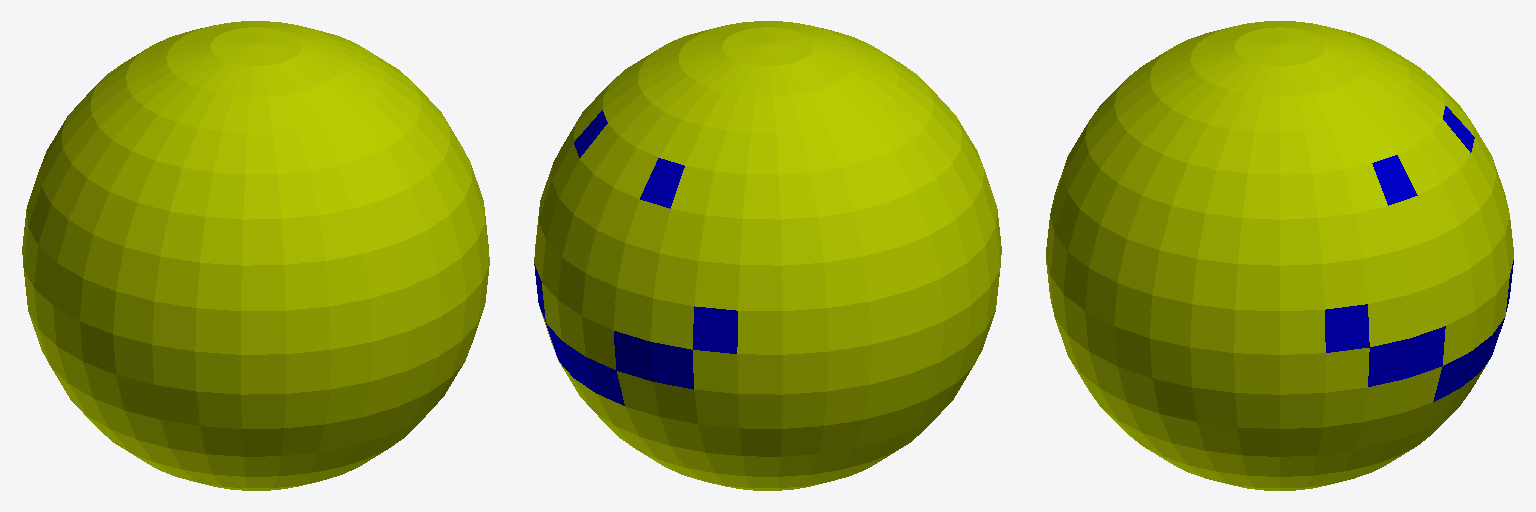
Rendered from smiley.obj.
The picture shows the model from 3 angles: view 1: azimuth 30°, elevation 25°; view 2: azimuth 150°, elevation 25°; view 3: azimuth 270°, elevation 25°; orthographic projection.
Visible parts, largest first — view 1: Sphere; view 2: Sphere; view 3: Sphere.
Part boxes in pixels (bbox=[...]): Sphere: bbox=[22, 21, 489, 490]; Sphere: bbox=[534, 21, 1001, 490]; Sphere: bbox=[1046, 21, 1513, 490].
Bounding box in the file's own units: 1.98 × 1.98 × 1.98.